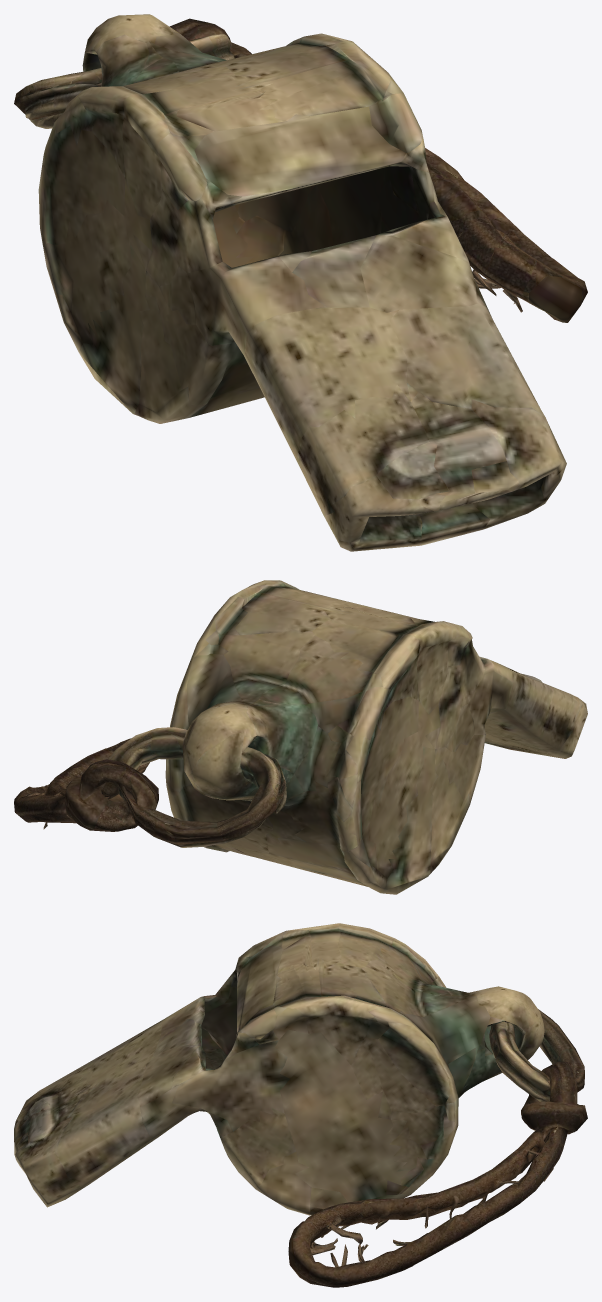
File: whistle.ba599fdf.glb
3 views of the same model, one above another, from view 1: azimuth 30°, elevation 25°; view 2: azimuth 150°, elevation 25°; view 3: azimuth 270°, elevation 25° (orthographic). The views are drawn at different scales.
Parts seen in each view (by area): view 1: item; view 2: item; view 3: item.
Part boxes in pixels (x1,y1,x2,y2): item: [14, 14, 587, 551]; item: [14, 580, 587, 894]; item: [14, 923, 587, 1287].
Bounding box in the file's own units: 0.0385 × 0.0256 × 0.0599.
1 material, 1 textured.
